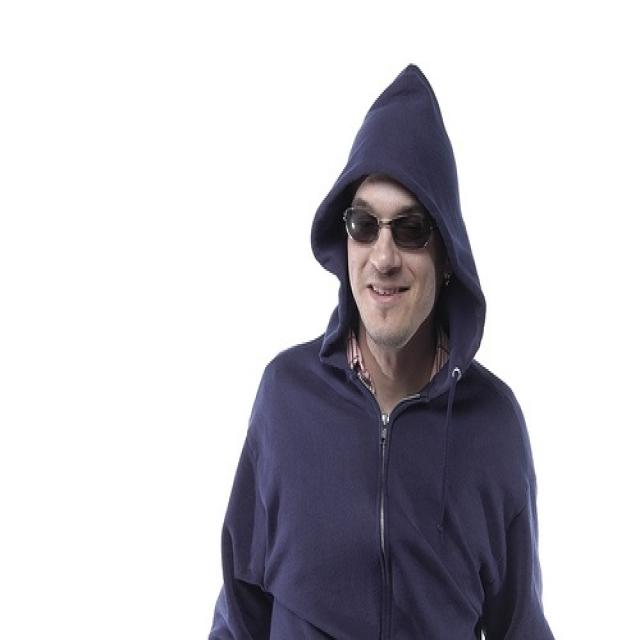4_capucha: (306, 59, 488, 419)
